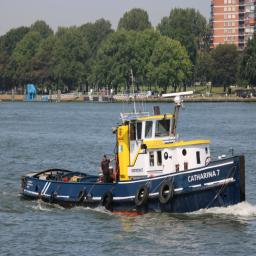tugboat: (19, 90, 249, 223)
